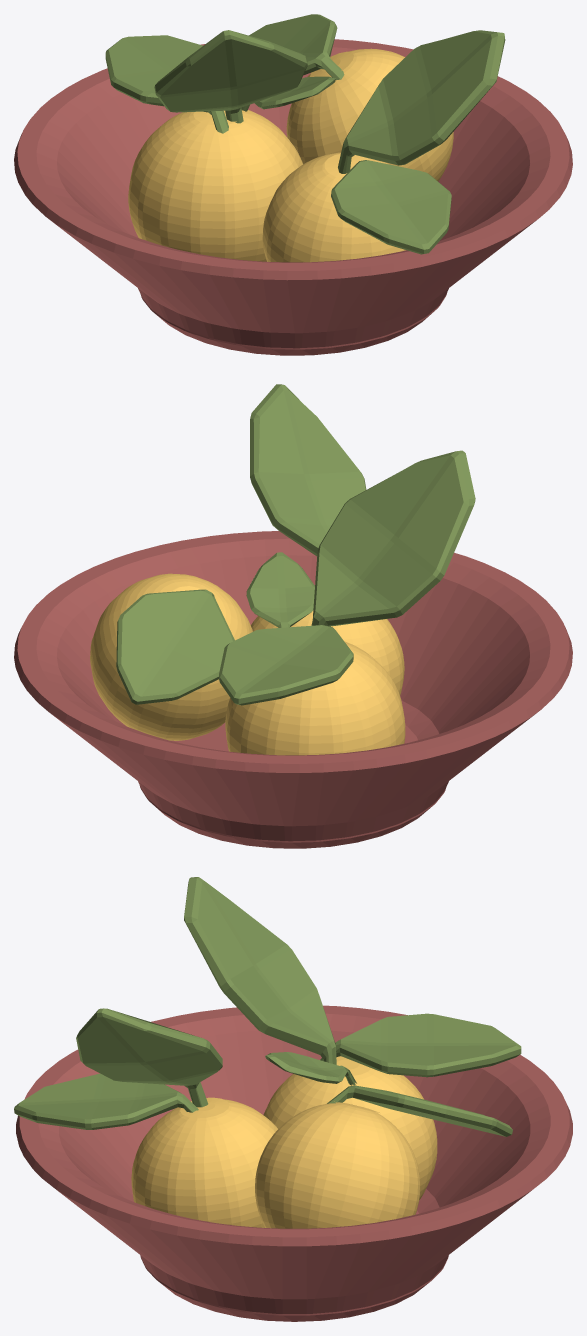
The model's file is Kitchen_Fruits.fbx.
3 renders of one model, top to bottom at view 1: azimuth 30°, elevation 25°; view 2: azimuth 150°, elevation 25°; view 3: azimuth 270°, elevation 25°, orthographic.
Parts seen in each view (by area): view 1: Kitchen_Fruits.002, Kitchen_Fruits, Kitchen_Fruits.001; view 2: Kitchen_Fruits.002, Kitchen_Fruits, Kitchen_Fruits.001; view 3: Kitchen_Fruits.002, Kitchen_Fruits, Kitchen_Fruits.001.
Part boxes in pixels (left/top/right/bottom): Kitchen_Fruits.002: left=14, top=39, right=572, bottom=355; Kitchen_Fruits: left=105, top=14, right=505, bottom=254; Kitchen_Fruits.001: left=128, top=48, right=453, bottom=262; Kitchen_Fruits.002: left=14, top=531, right=572, bottom=848; Kitchen_Fruits: left=116, top=384, right=475, bottom=705; Kitchen_Fruits.001: left=90, top=573, right=405, bottom=755; Kitchen_Fruits.002: left=16, top=1005, right=572, bottom=1321; Kitchen_Fruits: left=14, top=877, right=521, bottom=1136; Kitchen_Fruits.001: left=131, top=1056, right=437, bottom=1228.
Bounding box in the file's own units: 49.01 × 31.71 × 48.82.
